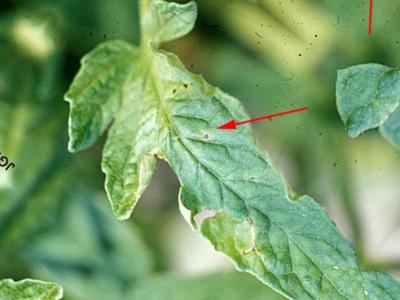Tomato leaf bacterial spot: (15, 0, 395, 300)
